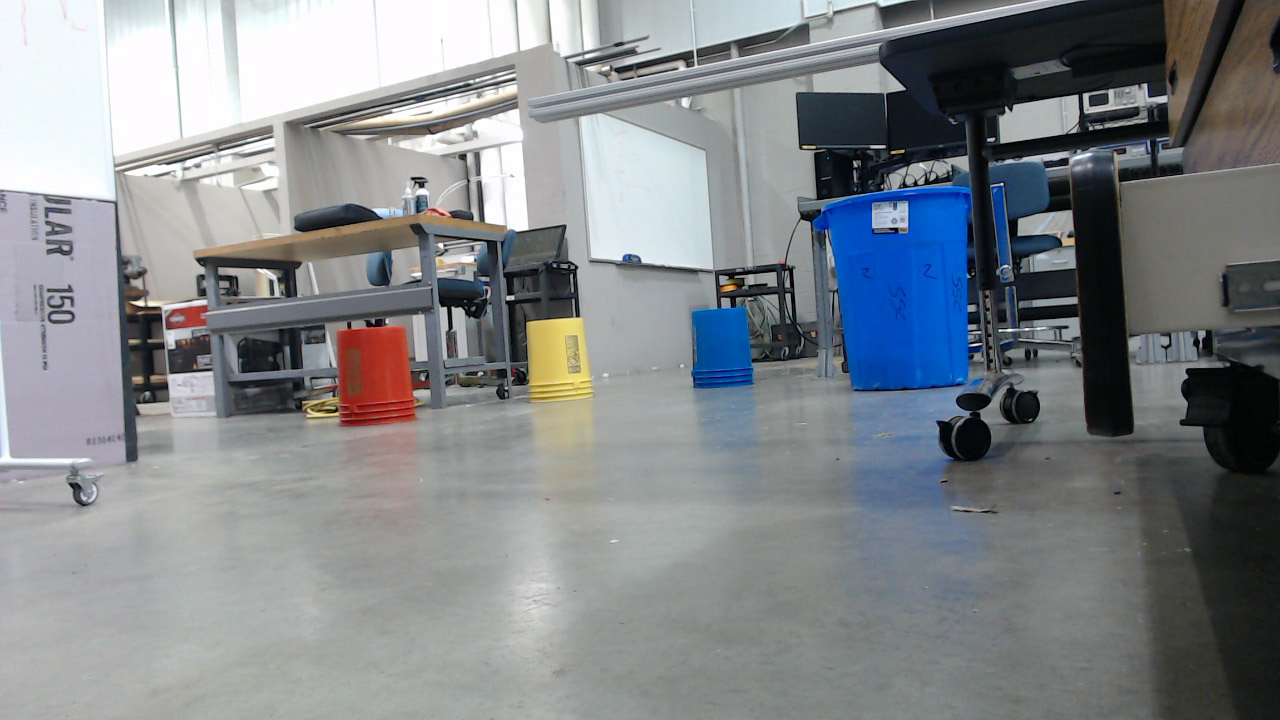blue_bucket: (693, 310, 760, 394)
red_bucket: (339, 328, 425, 434)
yellow_bucket: (530, 320, 602, 410)
